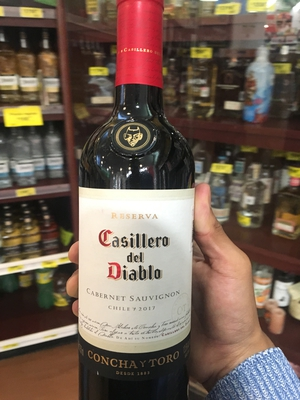casillero del diablo cabernet sauvignon: (72, 16, 213, 396)
